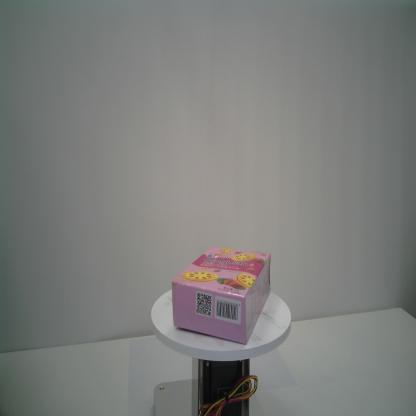Dessert: (171, 243, 272, 347)
